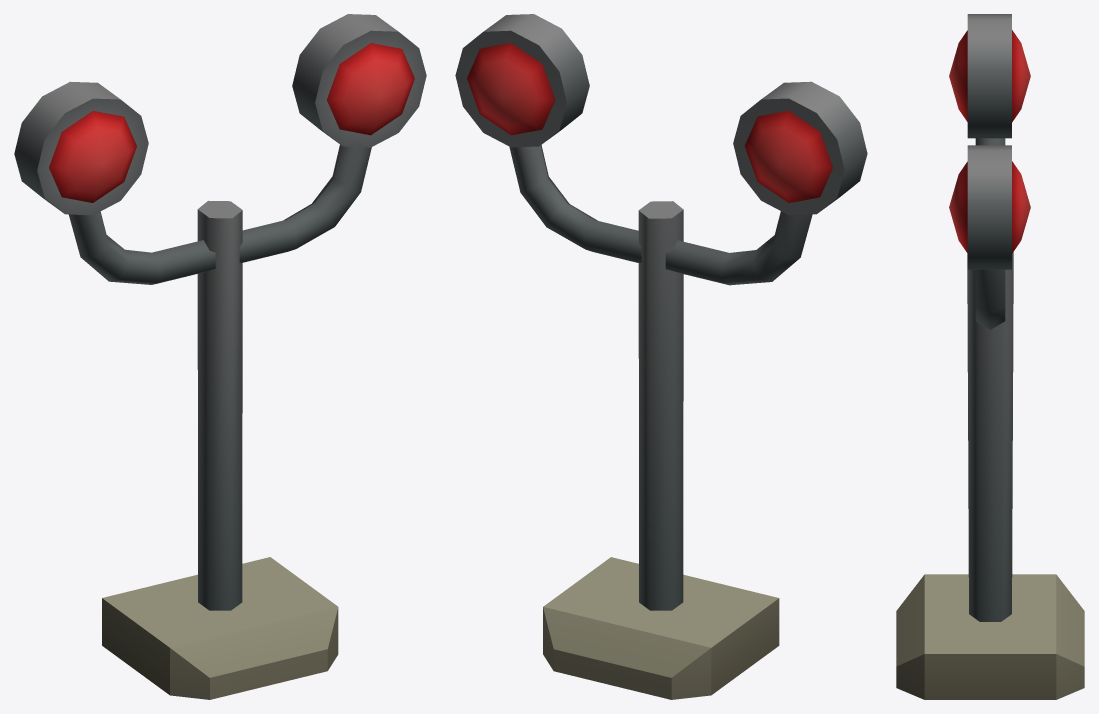
The model's file is Railway_Traffic_Light.fbx.
3 renders of one model, left to right at view 1: azimuth 30°, elevation 25°; view 2: azimuth 150°, elevation 25°; view 3: azimuth 270°, elevation 25°, orthographic. The views are drawn at different scales.
Parts seen in each view (by area): view 1: Railway_Traffic_Light; view 2: Railway_Traffic_Light; view 3: Railway_Traffic_Light.
Part boxes in pixels (<box>): Railway_Traffic_Light: <box>14,14,426,699</box>; Railway_Traffic_Light: <box>455,14,867,699</box>; Railway_Traffic_Light: <box>896,14,1084,699</box>.
Size of the model in its own units: 188 by 273 by 81.11.
